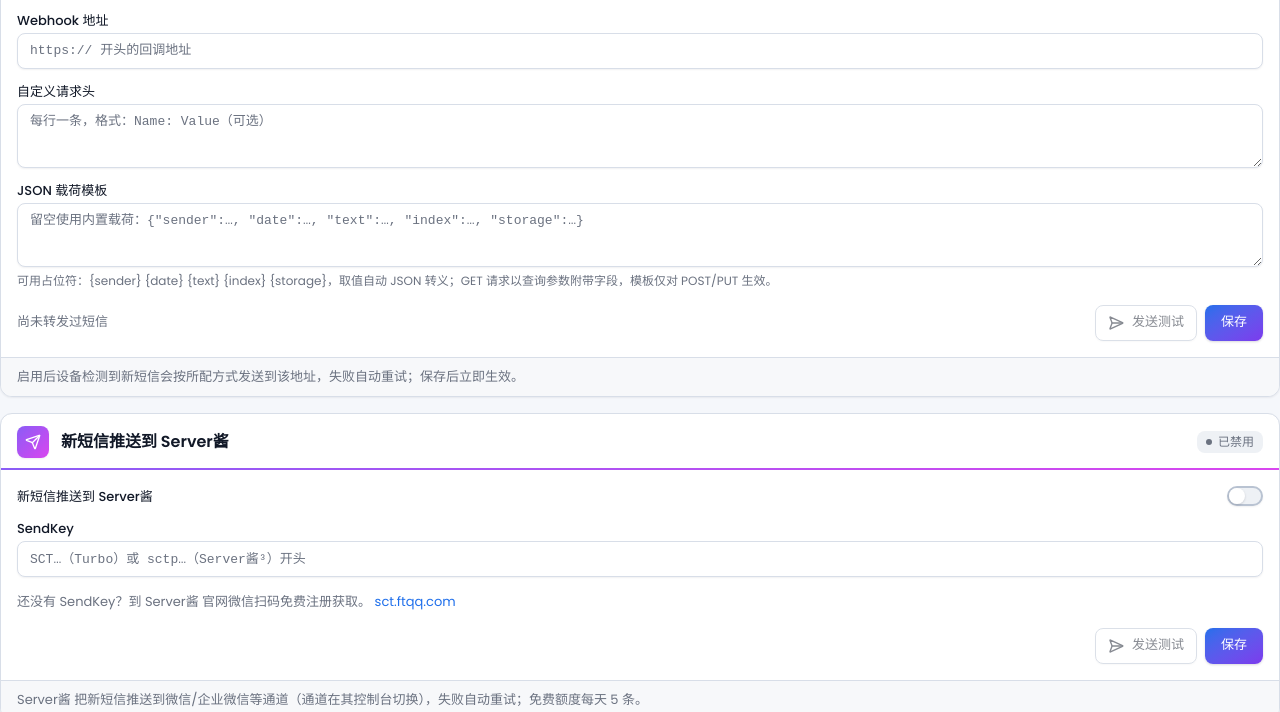
Test case: SmsForwardPage 组件 › Server酱 卡:启用开关在 SendKey 为空时拦截保存,测试按钮随保存态启用
(page scrolled)
Check: the field with placeholder "SCT…（Turbo）或 sctp…（Server酱³）开头" is shown, box x1=17 y1=541 x2=1263 y2=577
Step 1. Click the switch → (1245, 496), box x1=1227 y1=486 x2=1263 y2=506
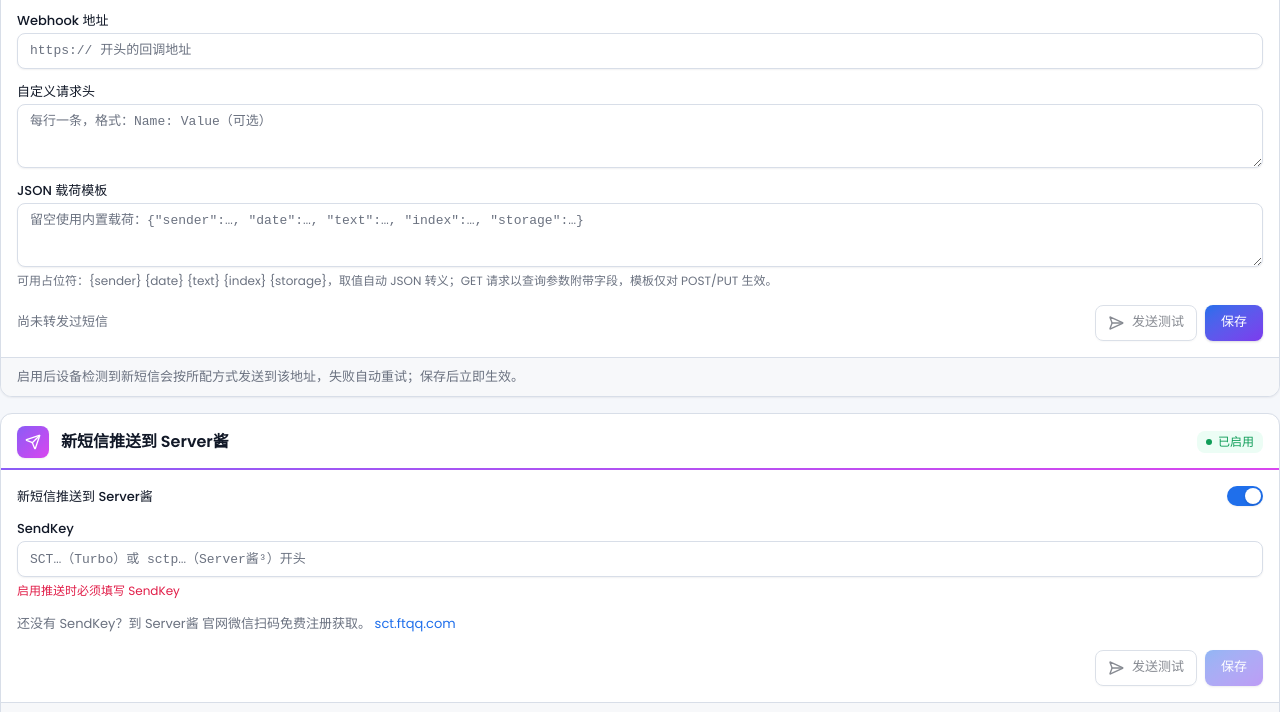
Check: the button "发送测试" below "已启用" is disabled, box x1=1095 y1=650 x2=1197 y2=686
Check: the text "启用推送时必须填写 SendKey" is shown, box x1=17 y1=582 x2=180 y2=599
Check: the button "保存" below "已启用" is disabled, box x1=1205 y1=650 x2=1263 y2=686
